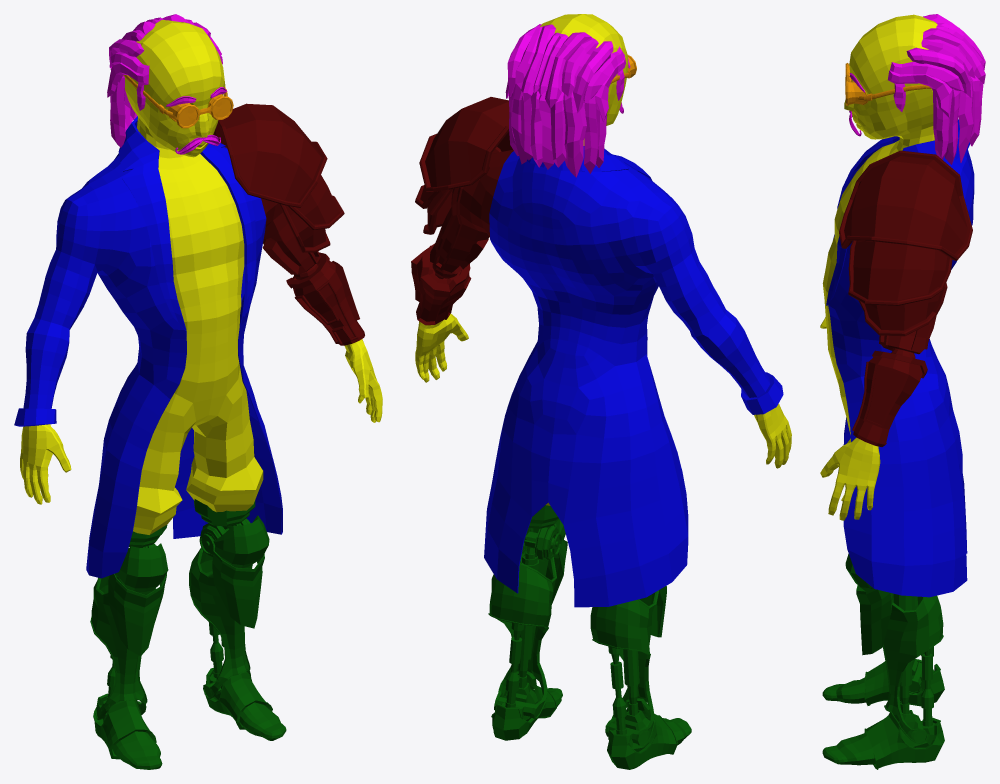
File: pp_geounica.fbx
The picture shows the model from 3 angles, left to right: view 1: azimuth 30°, elevation 25°; view 2: azimuth 150°, elevation 25°; view 3: azimuth 270°, elevation 25°; orthographic projection. The views are drawn at different scales.
Visible parts, largest first — view 1: obj_pp; view 2: obj_pp; view 3: obj_pp.
Boxes of the visible parts, bbox=[...] form: obj_pp: bbox=[14, 14, 382, 769]; obj_pp: bbox=[411, 14, 791, 769]; obj_pp: bbox=[820, 14, 985, 769].
Bounding box in the file's own units: 91.6 × 175 × 36.87.
